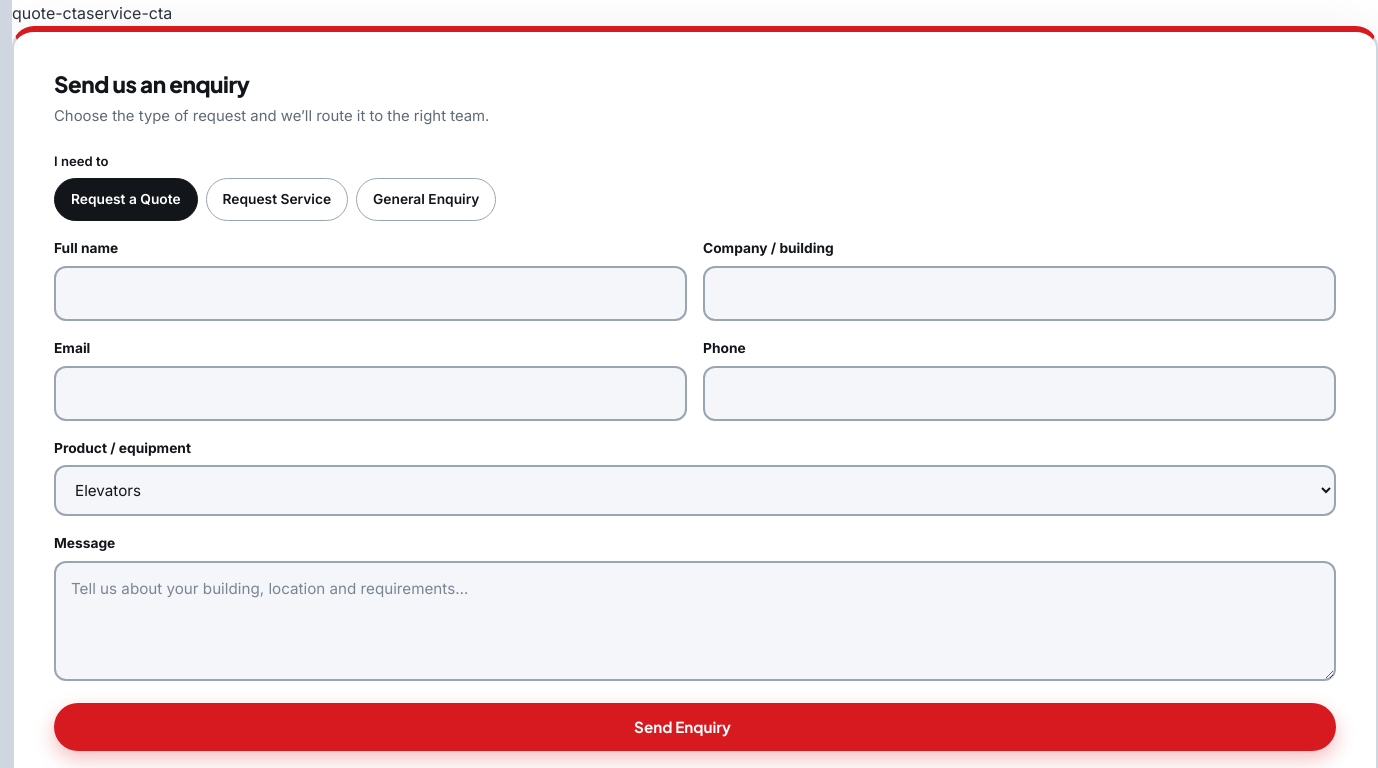
Scenario: EnquiryForm › rejects an invalid email address
This screenshot has width=1378, height=768.
In the field labelled "Full name": (370, 293) [54,266,687,321], type "Sara Ahmad"
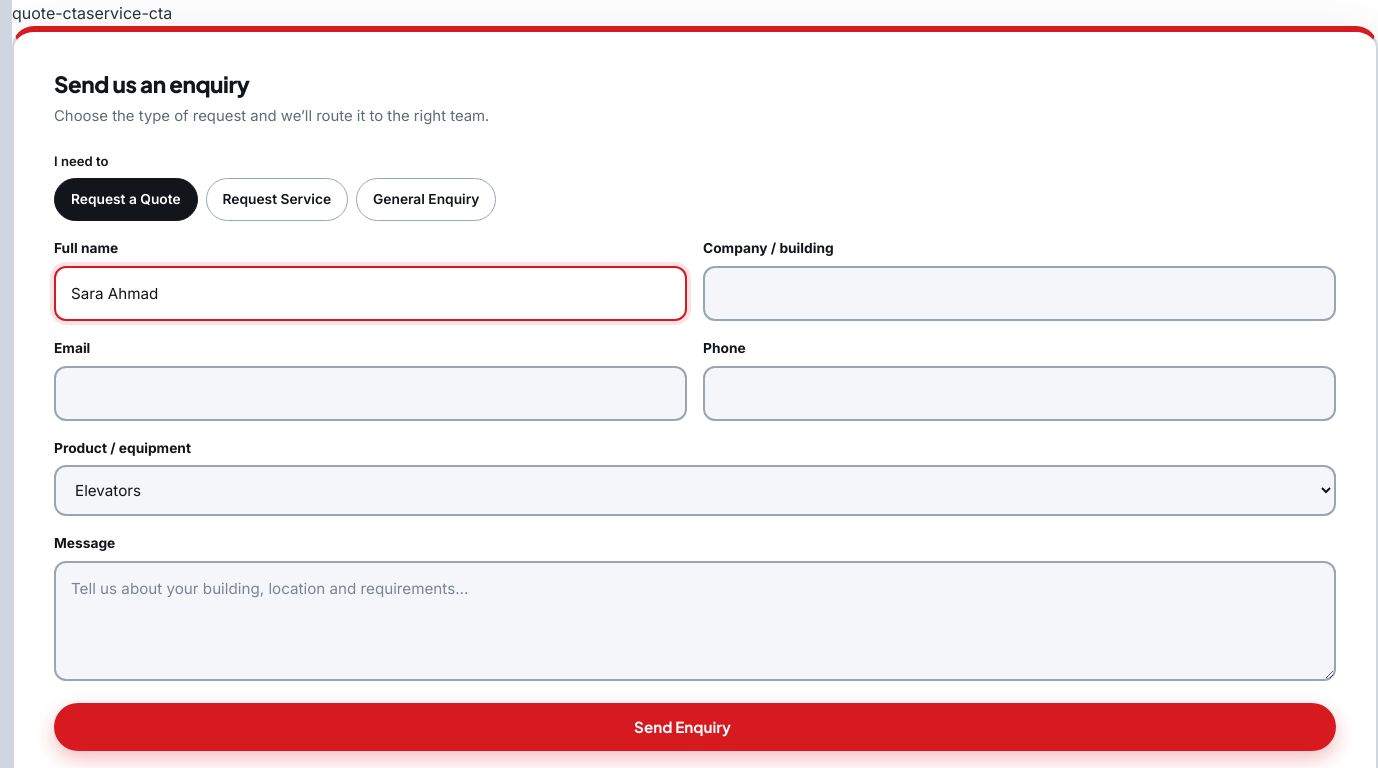
In the field labelled "Email": (370, 393) [54,366,687,420], type "not-an-email"
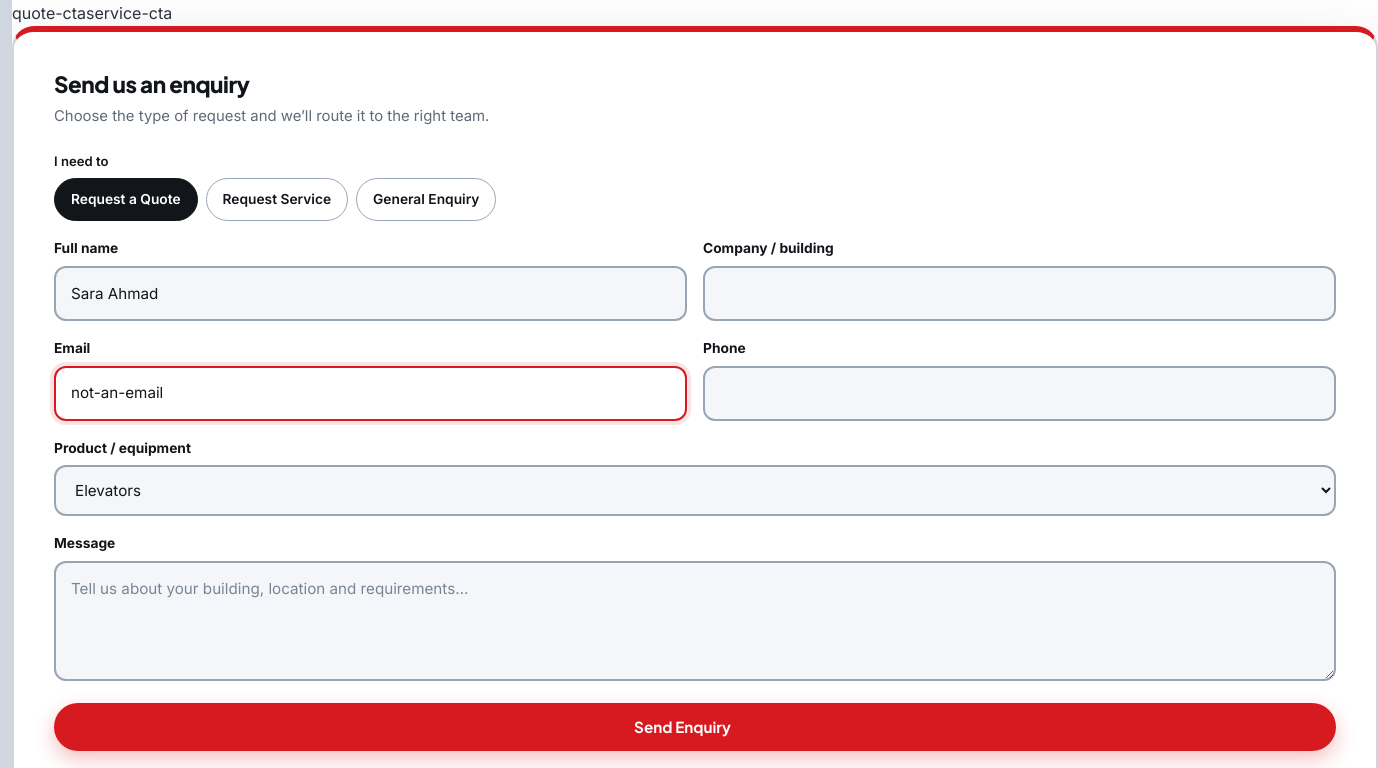
Click the button "Send Enquiry": (695, 727) [54,703,1336,751]
(page scrolled)
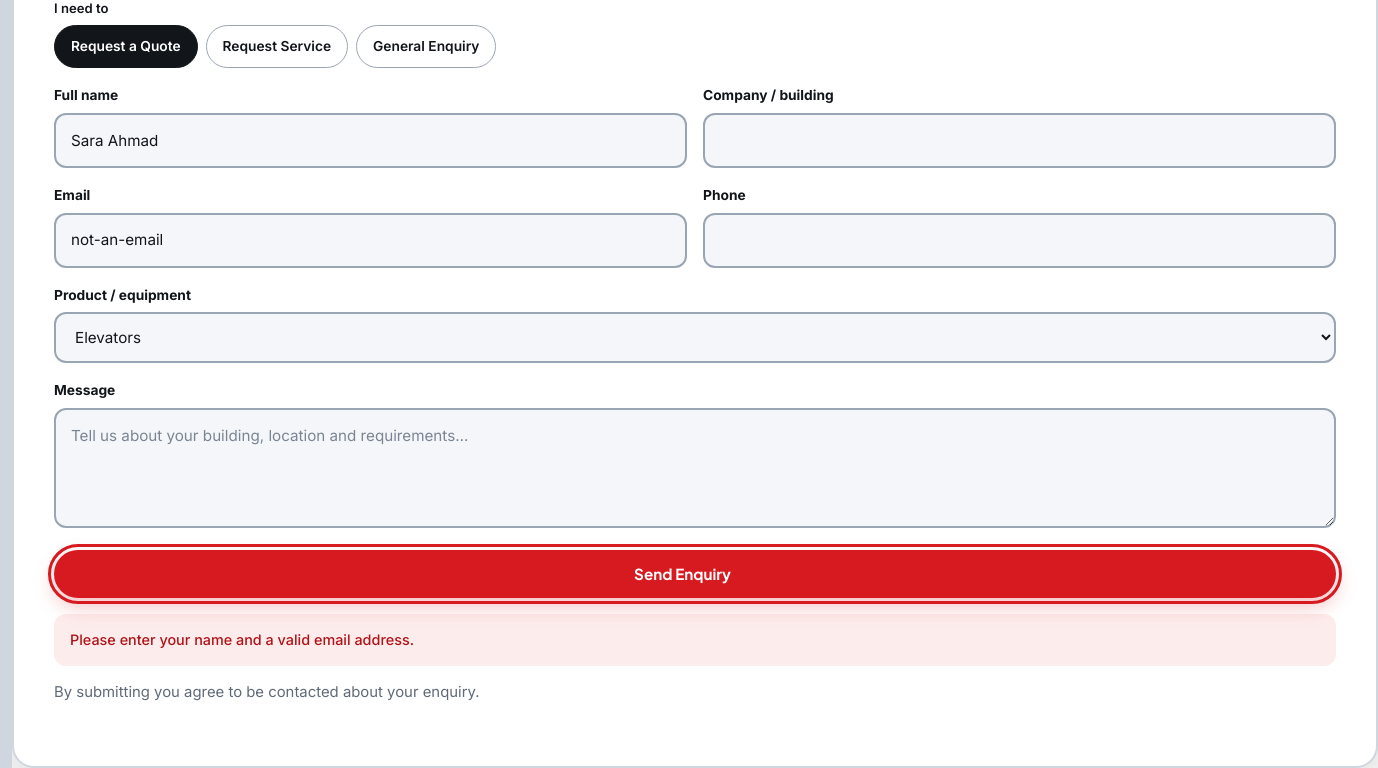
expect the message reads "Please enter your name and a valid email address.": met, box [70,631,414,648]
